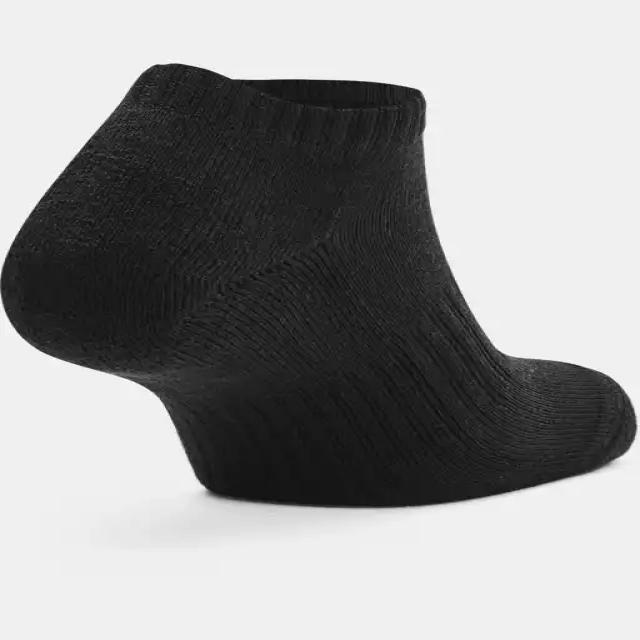sock: (0, 61, 638, 508)
